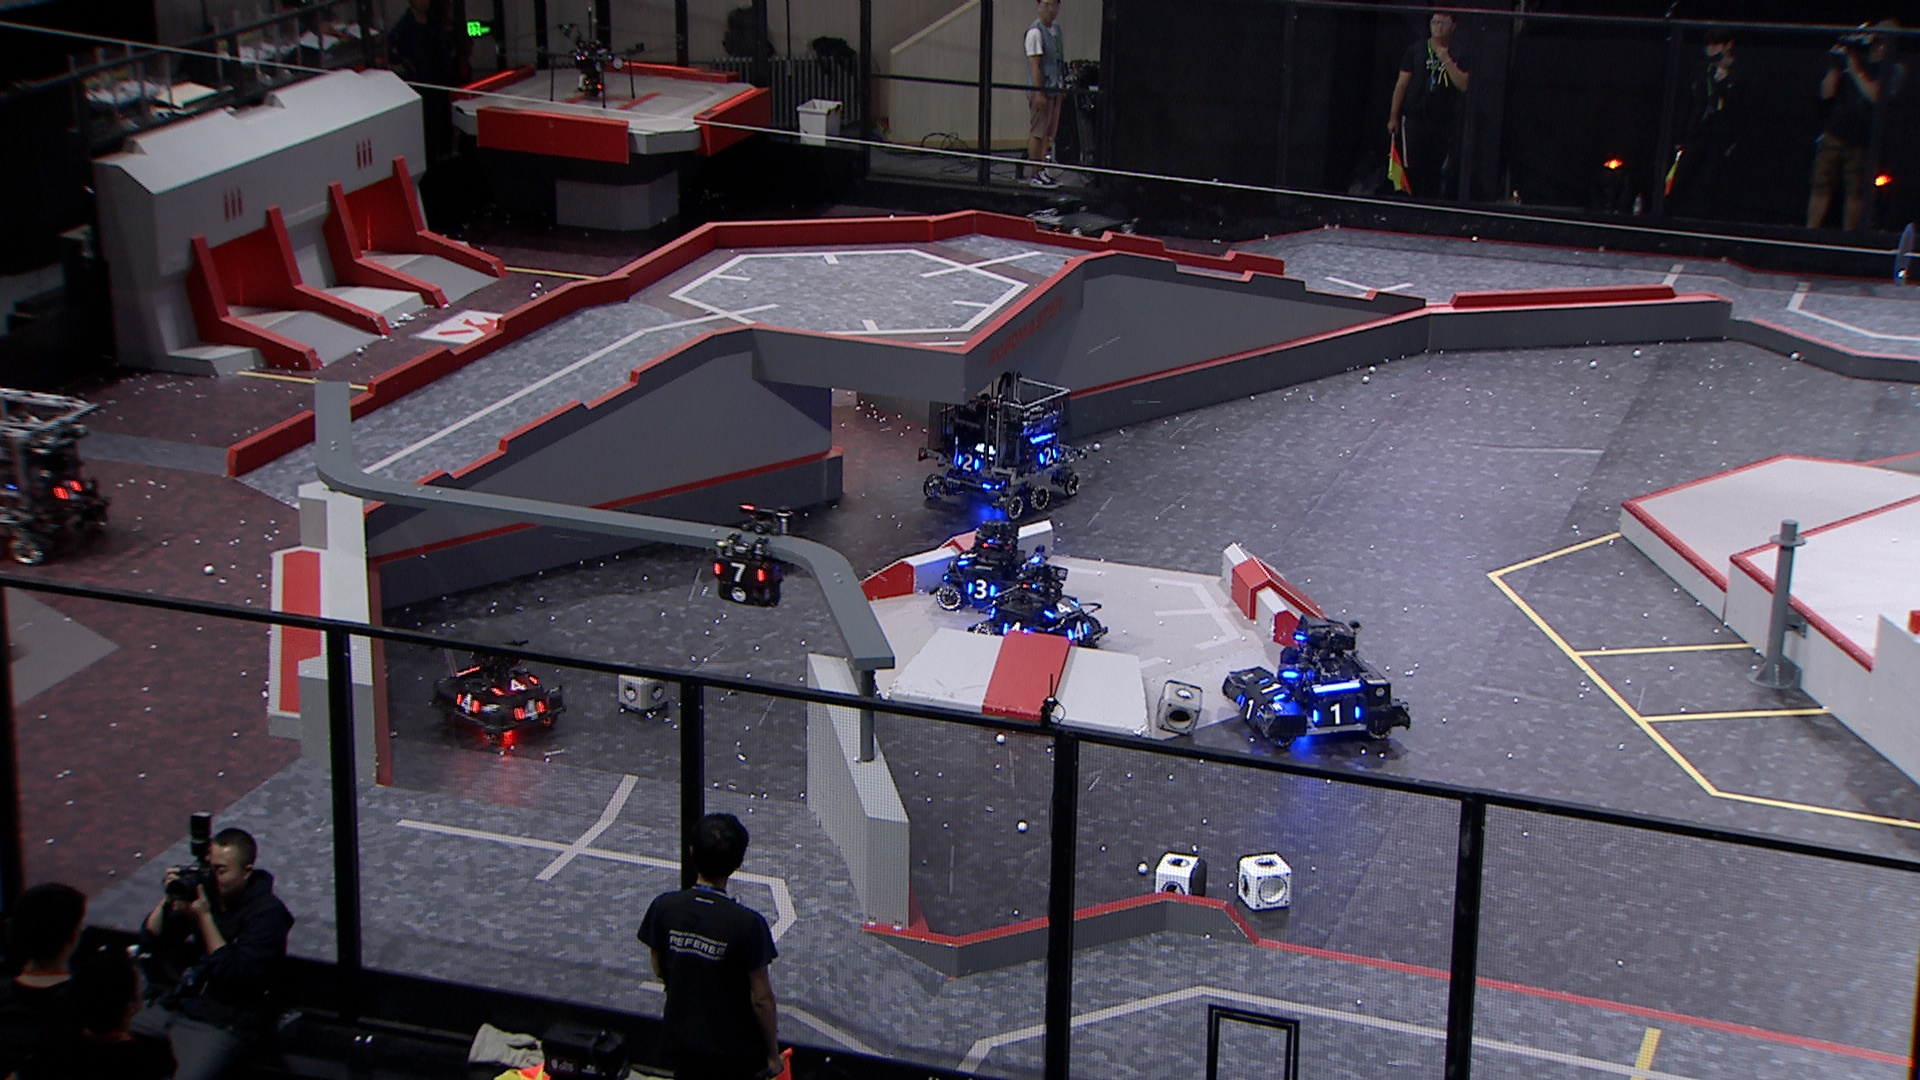armor: (1309, 699, 1367, 731), (709, 560, 770, 589), (489, 673, 541, 699), (1255, 673, 1288, 705), (513, 695, 549, 725), (53, 475, 83, 504), (1040, 595, 1077, 618), (452, 688, 483, 716), (965, 578, 998, 603), (1238, 692, 1265, 723), (1036, 440, 1060, 469), (953, 451, 981, 475), (1064, 622, 1092, 645), (1001, 621, 1031, 641), (953, 546, 978, 568)
car: (1220, 616, 1418, 749), (920, 373, 1083, 524), (429, 632, 571, 741), (968, 560, 1106, 655), (935, 518, 1064, 615), (1025, 202, 1135, 309)
watcher: (705, 501, 793, 605)
